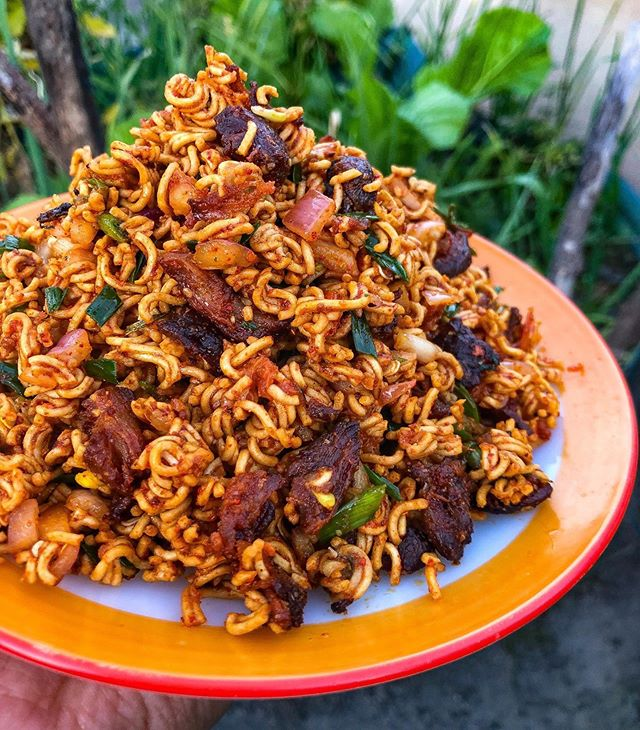chatpate: (7, 53, 525, 568)
